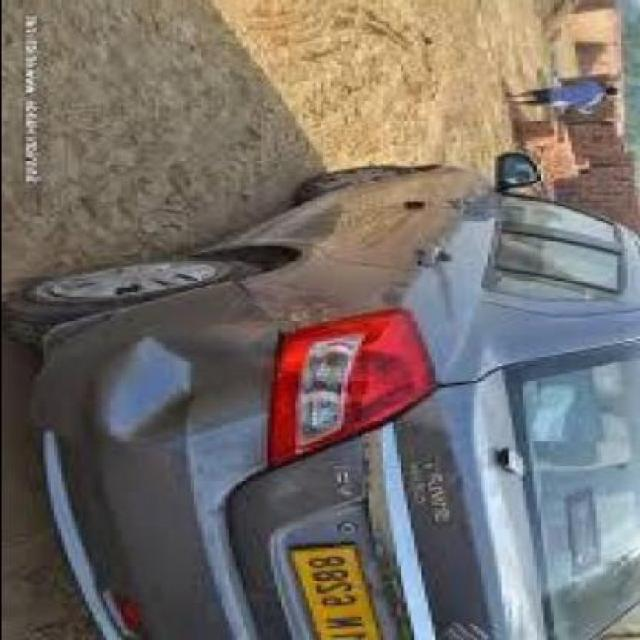damage: (97, 323, 270, 444)
